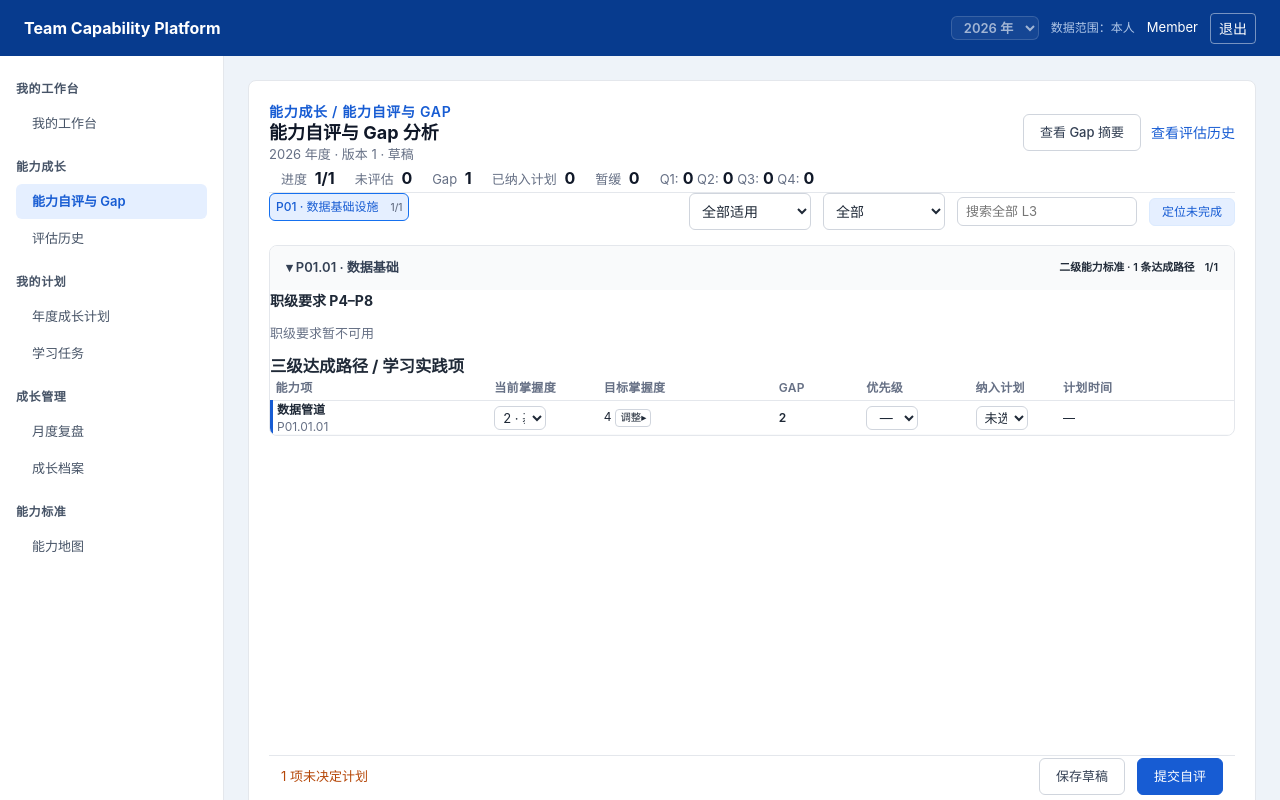
it: AssessmentGapPage › supports a valid personal adjustment target and reason
Expected: the heading "能力自评与 Gap 分析" is shown, left=269, top=122, right=451, bottom=144
Click the button "调整▸" at x=633, y=418, box left=615, top=409, right=651, bottom=427
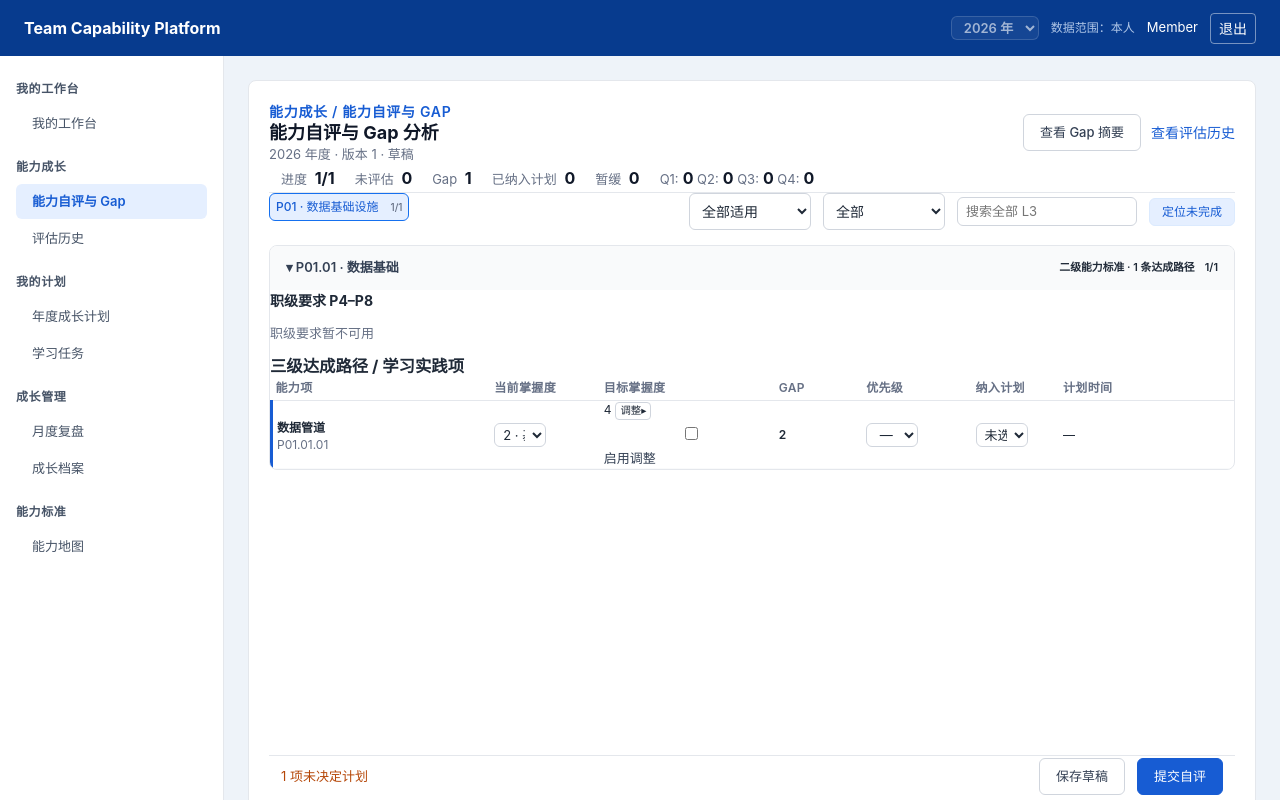
Click the checkbox named "启用个人调整 P01.01.01" at x=691, y=434, box left=608, top=427, right=775, bottom=440
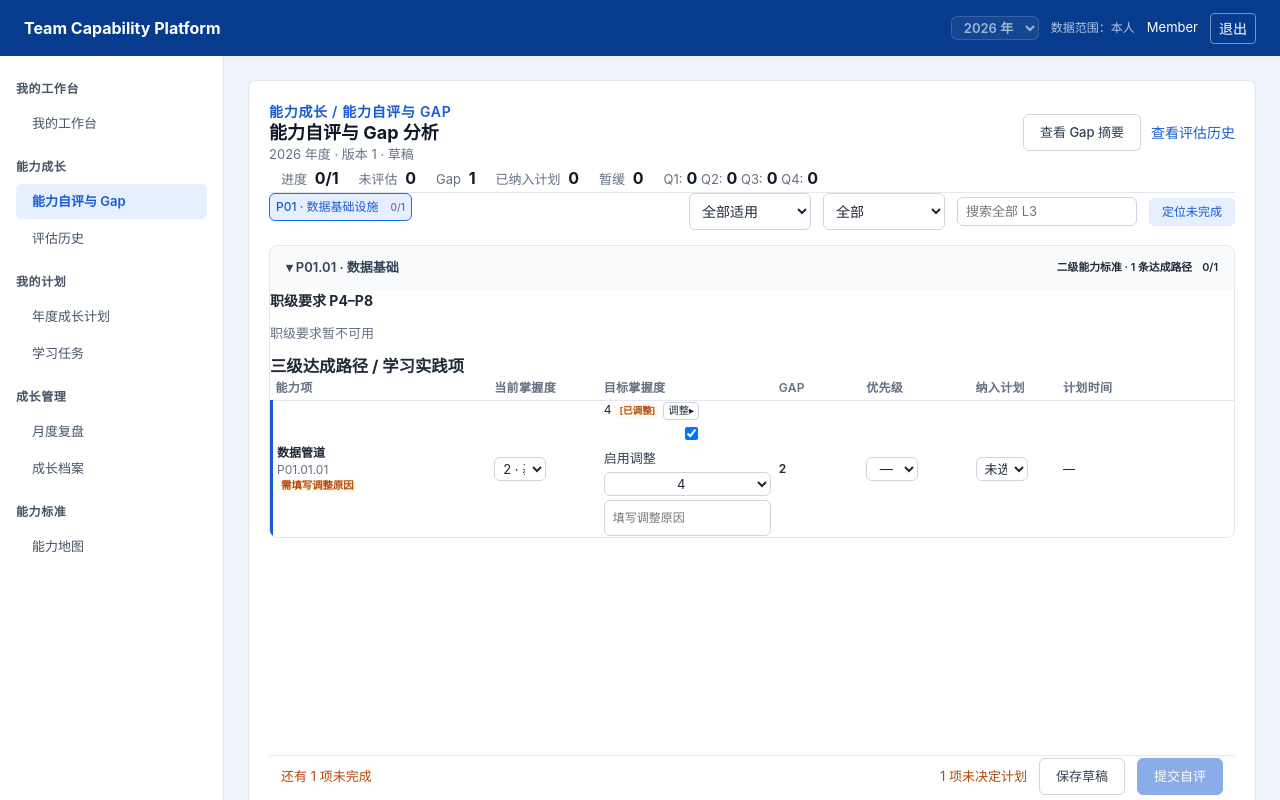
Type "调整原因" into the field named "调整原因 P01.01.01" at x=687, y=518, box left=604, top=500, right=771, bottom=536
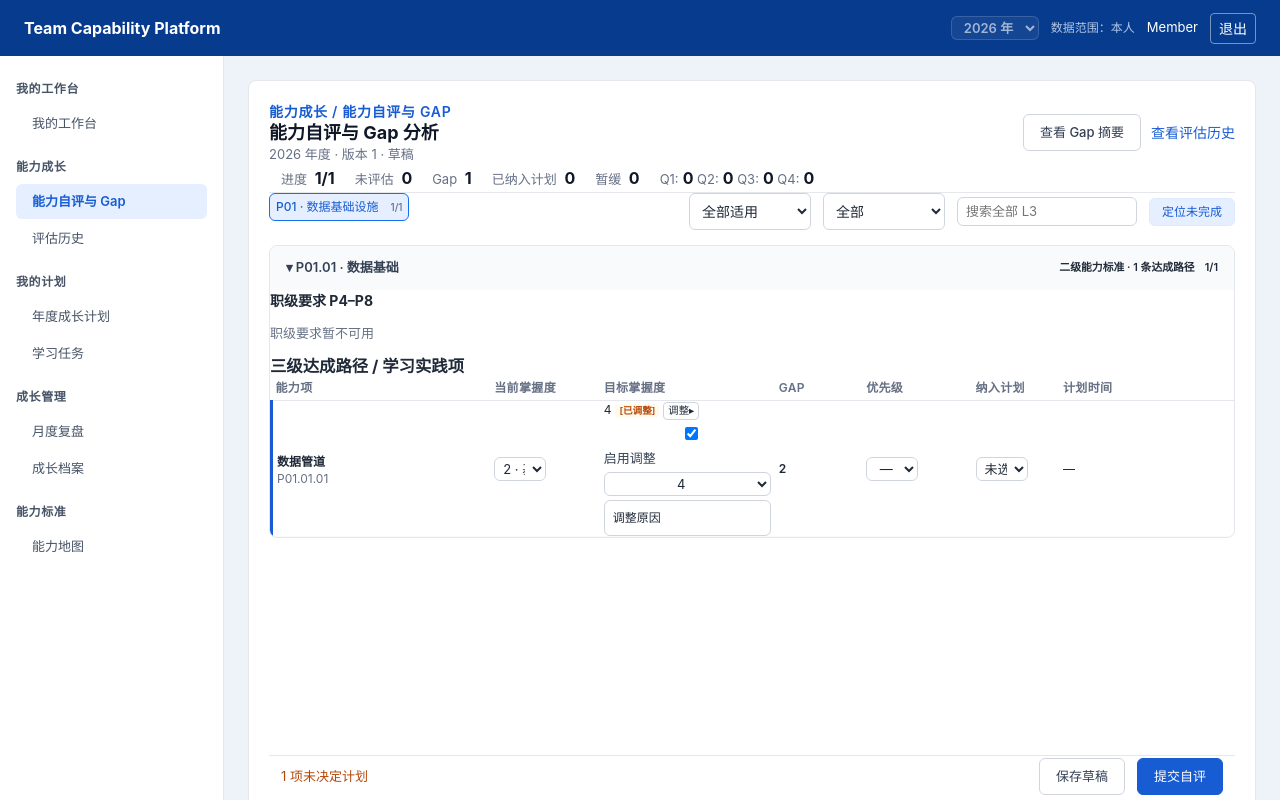
Result: the button "提交自评" is enabled at left=1137, top=758, right=1223, bottom=795
